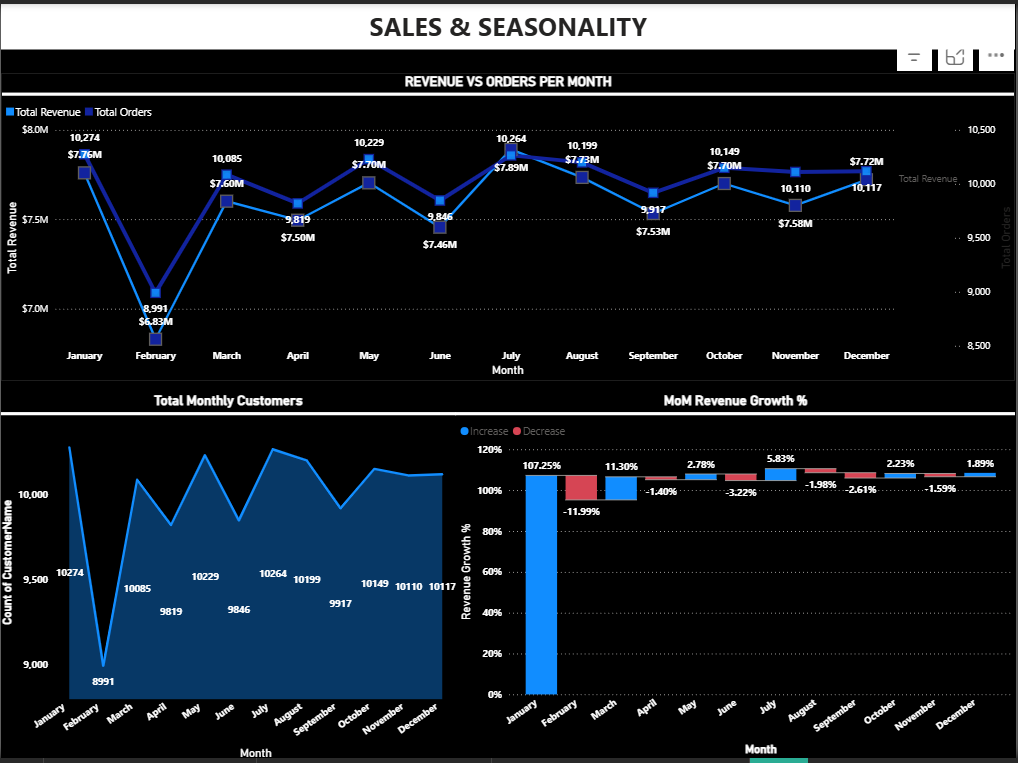

This screenshot's page, from the dashboard's own definition file:
{"tool":"powerbi","page":{"name":"Sales and Seasonality","canvas":[1280,950],"ordinal":2},"visuals":[{"type":"lineChart","title":"REVENUE VS ORDERS PER MONTH","fields":{"Y":["Measure_Table.Total Revenue"],"Category":["Date_Table.Month"],"Y2":["Measure_Table.Total Orders"]},"box":[0,87.7,1278.4,386.7],"z":1000},{"type":"waterfallChart","title":"MoM Revenue Growth %","fields":{"Category":["Date_Table.Month"],"Y":["Measure_Table.Revenue Growth %"]},"box":[573,489.3,706.1,461.4],"z":2000},{"type":"stackedAreaChart","title":"Total Monthly Customers","fields":{"Category":["Date_Table.Month"],"Y":["CountNonNull(Main_Data.CustomerName)"]},"box":[0,489.3,573,461.4],"z":3000},{"type":"textbox","box":[0,0,1278.4,57.3],"z":4000}]}

Visuals, with their boxes in screenshot pixels (x1, y1, x2, y2), scaled from the page's 1280x950 canvas onto the 1018x763 screenshot:
"REVENUE VS ORDERS PER MONTH" lineChart: 0 70 1017 381
"MoM Revenue Growth %" waterfallChart: 456 393 1017 762
"Total Monthly Customers" stackedAreaChart: 0 393 456 762
textbox: 0 0 1017 46
